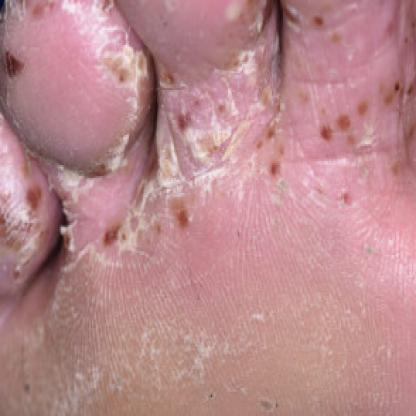Psoriasis: (42, 38, 280, 270)
